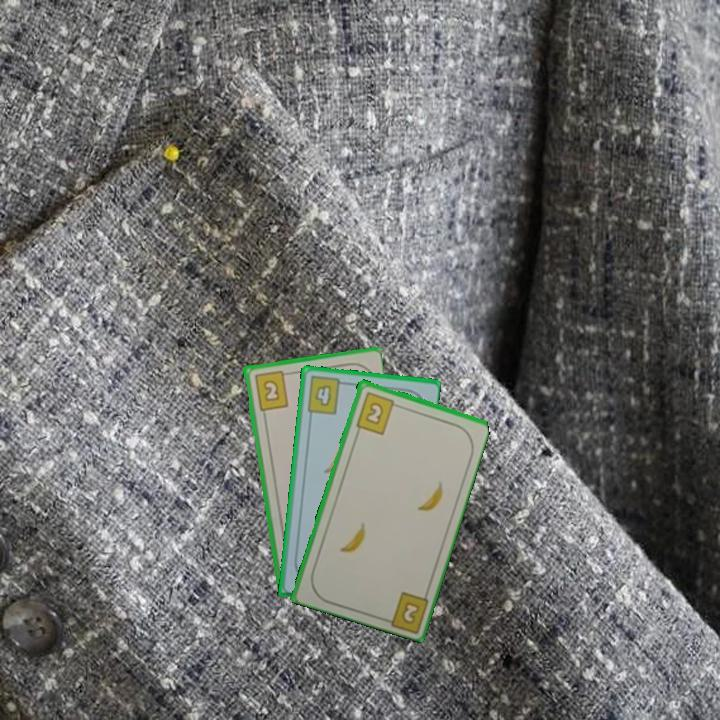2b: (352, 388, 402, 437), (250, 367, 292, 413), (398, 598, 422, 627)
4b: (303, 373, 349, 417)
